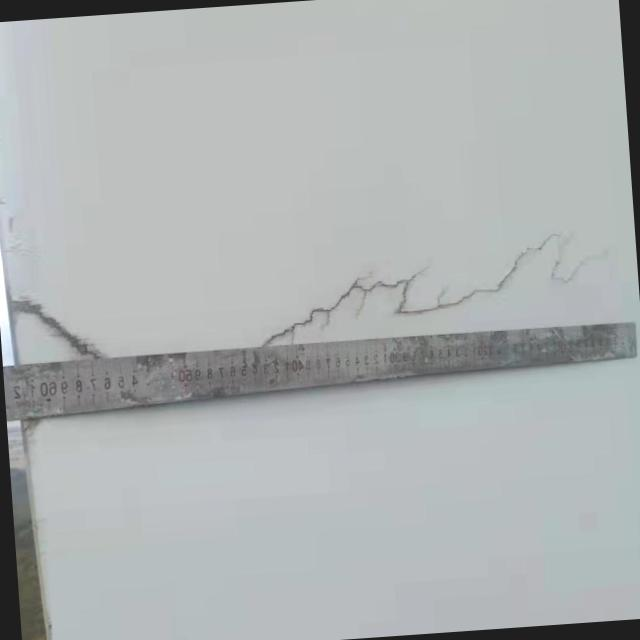crack: (255, 235, 598, 348), (10, 297, 101, 365)
